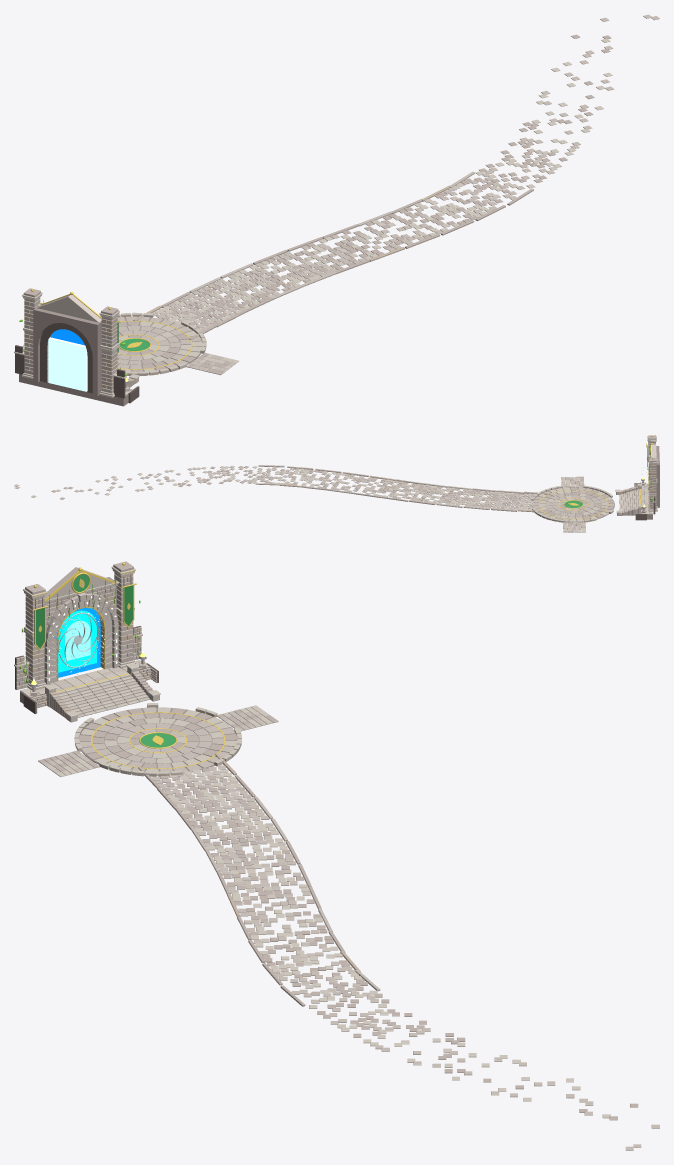
File: Floor1_Entrance.fbx
3 renders of one model, top to bottom at view 1: azimuth 30°, elevation 25°; view 2: azimuth 150°, elevation 25°; view 3: azimuth 270°, elevation 25°, orthographic. The views are drawn at different scales.
Visible parts, largest first — view 1: Entrance_Walk_Road__Castle_Stone_1, Entrance_Walk_Road__Castle_Stone_Light_1, Entrance_Walk_Road__Castle_Trim_1, Entrance_Walk_Road__Castle_Stone_Light_2, Entrance_Portal_Arch__Castle_Stone_Dark, Entrance_Walk_Plaza__Castle_Stone_Light, Entrance_Walk_Road__Castle_Stone_2, Floor1_Portal_TeleportTrigger__Magic_Glow, Entrance_Walk_Plaza__Castle_Trim, Entrance_Portal_Pillars__Castle_Stone, Entrance_Portal_Arch__Castle_Seam, Entrance_Portal_Arch__Castle_Stone_Light (+6 smaller); view 2: Entrance_Walk_Road__Castle_Stone_1, Entrance_Walk_Road__Castle_Stone_Light_1, Entrance_Walk_Road__Castle_Trim_1, Entrance_Walk_Plaza__Castle_Stone_Light, Entrance_Walk_Plaza__Castle_Trim, Entrance_Walk_Road__Castle_Stone_Light_2, Entrance_Walk_Road__Castle_Stone_2, Entrance_Walk_Plaza__Castle_Stone, Entrance_Walk_Stairs__Castle_Trim, Entrance_Walk_Stairs__Castle_Stone_Light, Entrance_Walk_Road__Castle_Trim_2, Entrance_Walk_Plaza__Gold (+7 smaller); view 3: Entrance_Walk_Road__Castle_Stone_1, Entrance_Walk_Road__Castle_Stone_Light_1, Entrance_Walk_Road__Castle_Trim_1, Entrance_Walk_Plaza__Castle_Stone_Light, Entrance_Portal_Arch__Castle_Stone_Light, Entrance_Walk_Plaza__Castle_Trim, Entrance_Walk_Road__Castle_Stone_Light_2, Entrance_Walk_Stairs__Castle_Trim, Entrance_Walk_Plaza__Castle_Stone, Entrance_Walk_Road__Castle_Stone_2, Entrance_Walk_Stairs__Castle_Stone_Light, Entrance_Portal_Pillars__Castle_Stone (+5 smaller).
Part boxes in pixels (x1,y1,x2,y2): Entrance_Walk_Road__Castle_Stone_1: (161,199,474,339); Entrance_Walk_Road__Castle_Stone_Light_1: (150,207,443,331); Entrance_Walk_Road__Castle_Trim_1: (154,161,535,327); Entrance_Walk_Road__Castle_Stone_Light_2: (430,14,659,215); Entrance_Portal_Arch__Castle_Stone_Dark: (33,306,101,396); Entrance_Walk_Plaza__Castle_Stone_Light: (117,314,201,374); Entrance_Walk_Road__Castle_Stone_2: (434,34,611,221); Floor1_Portal_TeleportTrigger__Magic_Glow: (48,337,87,391); Entrance_Walk_Plaza__Castle_Trim: (117,312,206,373); Entrance_Portal_Pillars__Castle_Stone: (21,288,125,390); Entrance_Portal_Arch__Castle_Seam: (40,323,92,393); Entrance_Portal_Arch__Castle_Stone_Light: (37,294,101,381); Entrance_Walk_Road__Castle_Stone_1: (304,468,550,511); Entrance_Walk_Road__Castle_Stone_Light_1: (314,472,536,510); Entrance_Walk_Road__Castle_Trim_1: (230,466,533,510); Entrance_Walk_Plaza__Castle_Stone_Light: (532,487,614,522); Entrance_Walk_Plaza__Castle_Trim: (531,485,613,521); Entrance_Walk_Road__Castle_Stone_Light_2: (14,465,315,497); Entrance_Walk_Road__Castle_Stone_2: (51,465,313,499); Entrance_Walk_Plaza__Castle_Stone: (538,487,613,520); Entrance_Walk_Stairs__Castle_Trim: (615,483,649,514); Entrance_Walk_Stairs__Castle_Stone_Light: (616,483,652,515); Entrance_Walk_Road__Castle_Trim_2: (56,466,231,495); Entrance_Walk_Plaza__Gold: (539,490,608,519); Entrance_Walk_Road__Castle_Stone_1: (138,766,345,962); Entrance_Walk_Road__Castle_Stone_Light_1: (152,765,332,948); Entrance_Walk_Road__Castle_Trim_1: (167,769,386,1014); Entrance_Walk_Plaza__Castle_Stone_Light: (75,707,236,776); Entrance_Portal_Arch__Castle_Stone_Light: (44,567,118,685); Entrance_Walk_Plaza__Castle_Trim: (74,703,241,774); Entrance_Walk_Road__Castle_Stone_Light_2: (275,952,659,1150); Entrance_Walk_Stairs__Castle_Trim: (20,663,160,716); Entrance_Walk_Plaza__Castle_Stone: (79,705,241,776); Entrance_Walk_Road__Castle_Stone_2: (262,960,638,1120); Entrance_Walk_Stairs__Castle_Stone_Light: (28,660,159,722); Entrance_Portal_Pillars__Castle_Stone: (16,561,141,685).
Bounding box in the file's own units: 72474 × 8501 × 40692.
